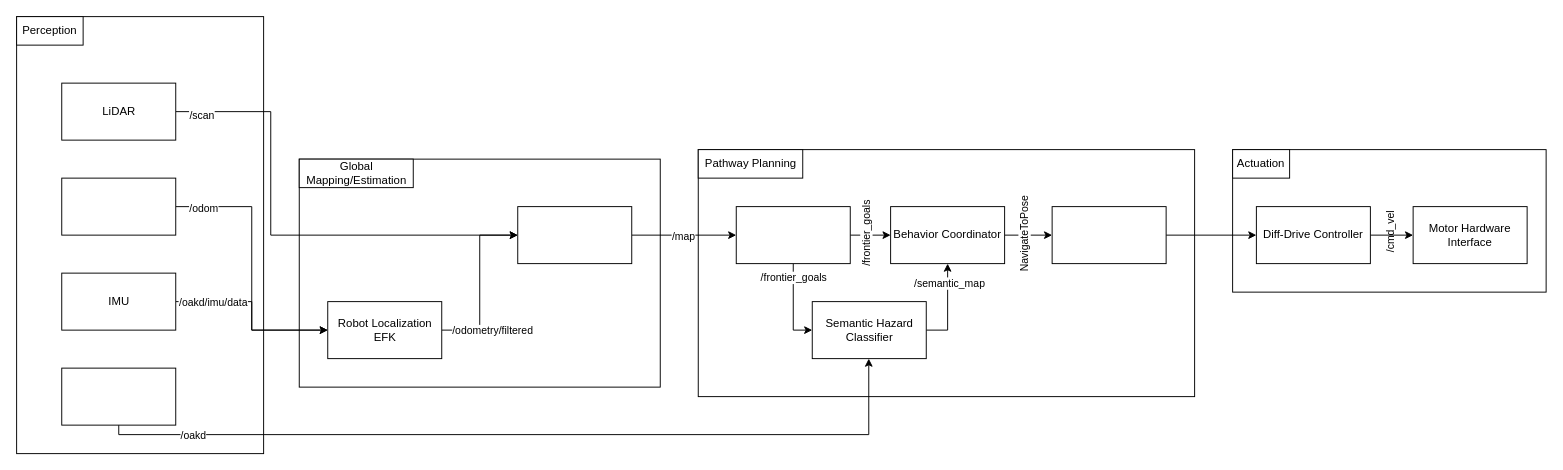
The diagram is 1563 pixels wide and 470 high, and some of its shapes have lost their labels. The centre of each missing label's shape, as x and y in pixels:
Frontier Classifier: point (792, 235)
Motor Encoders: point (118, 206)
Nav2 Global Planner: point (1108, 235)
OAK-D Camera: point (118, 396)
SLAM Toolbox: point (574, 235)
